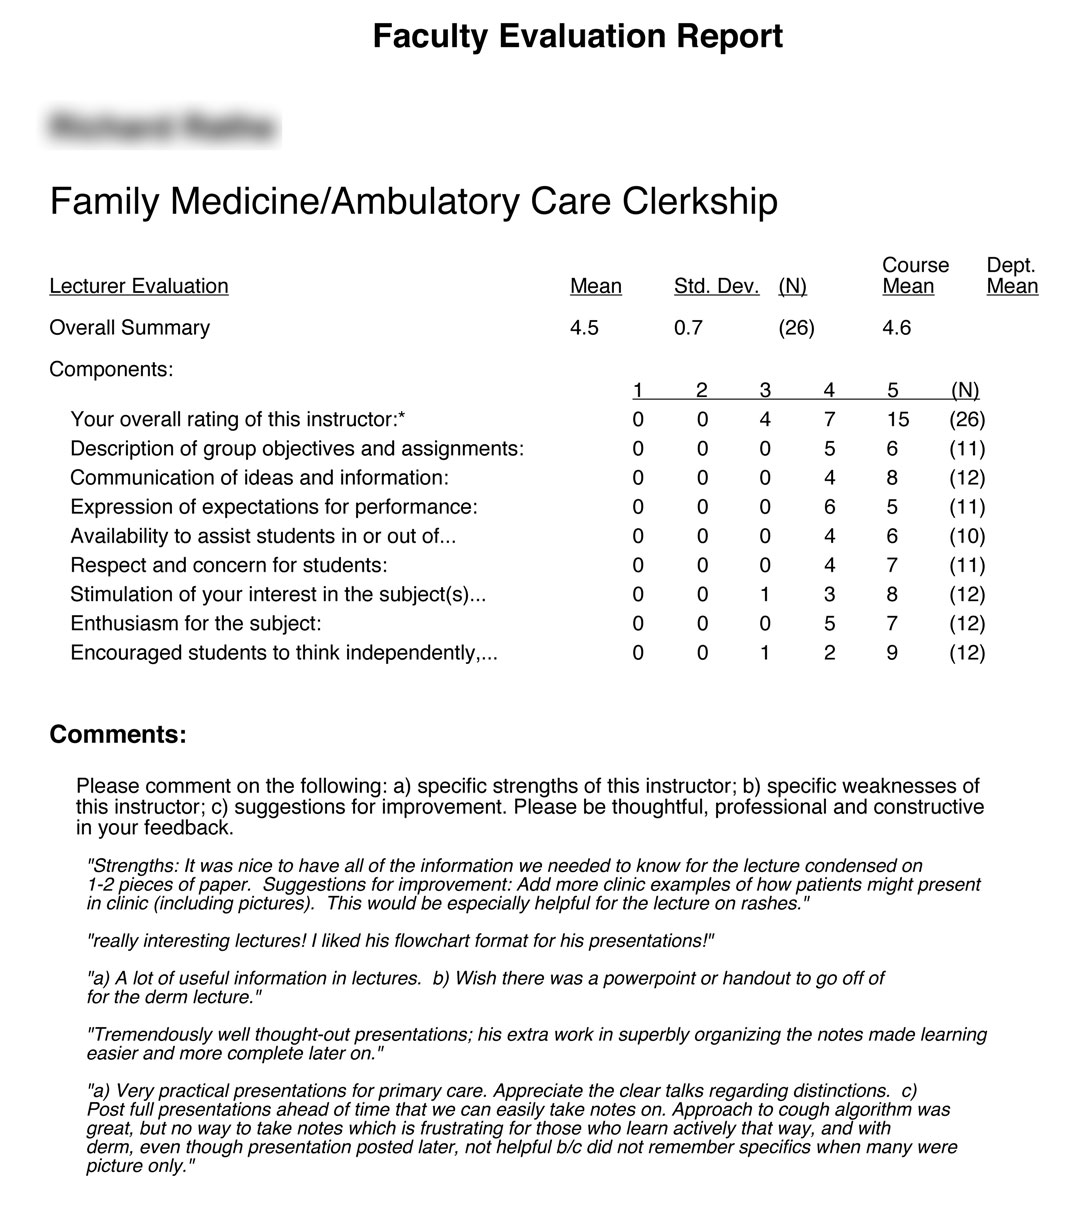table: (626, 372, 997, 675)
